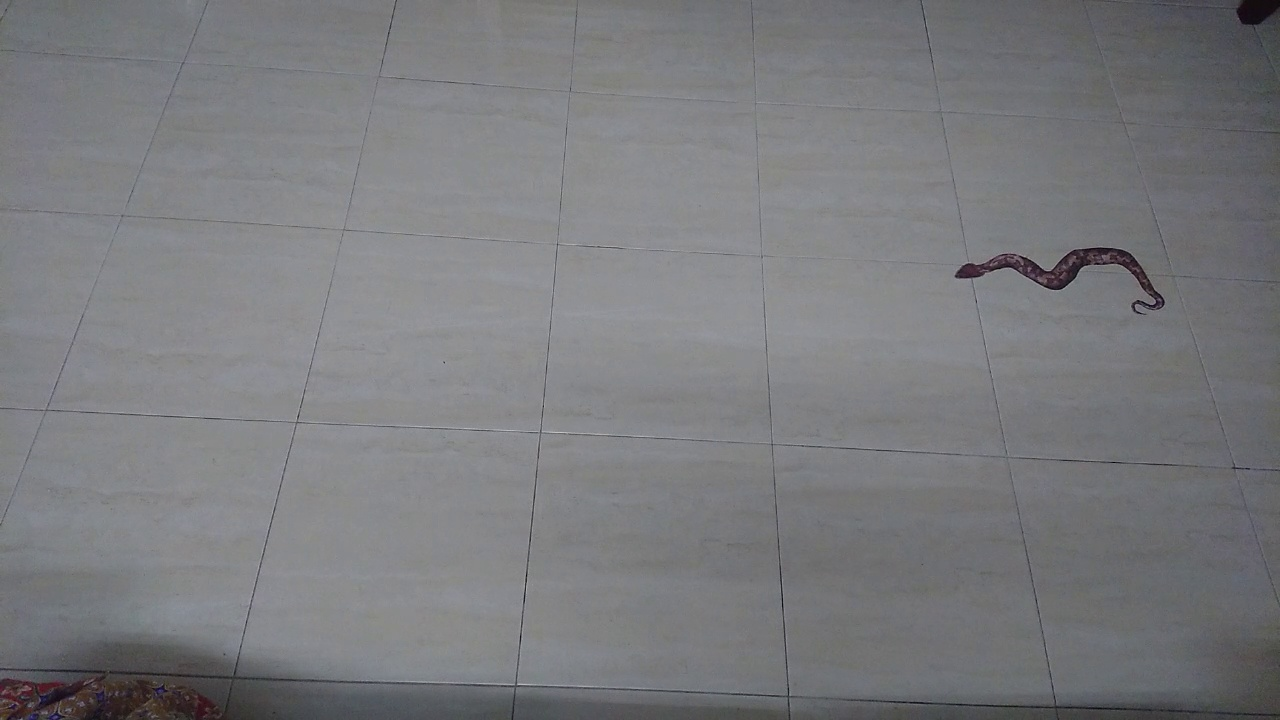snake: (937, 232, 1181, 331)
